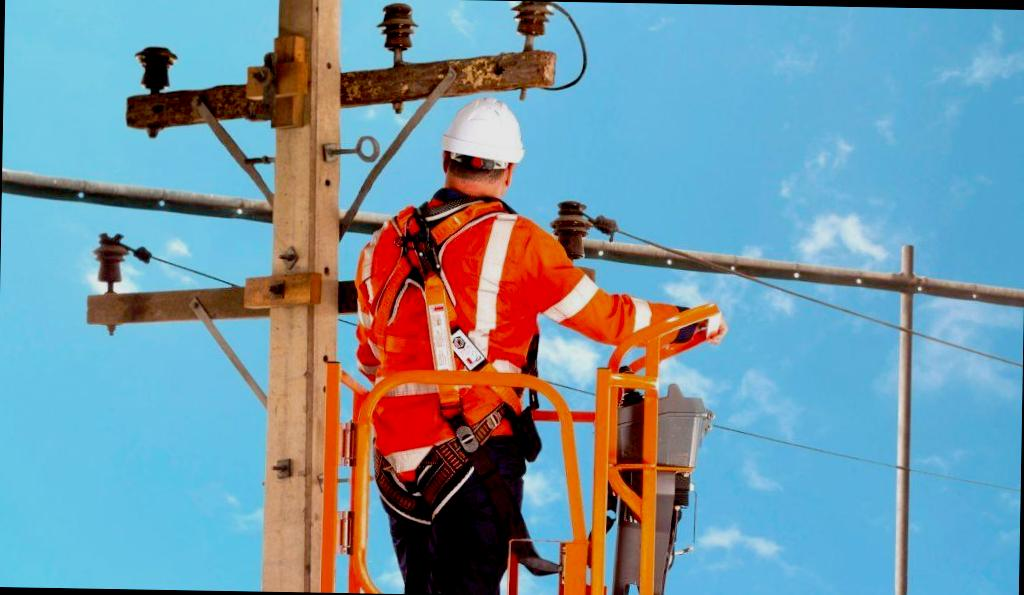helmet: (438, 91, 542, 176)
person: (344, 90, 606, 574)
